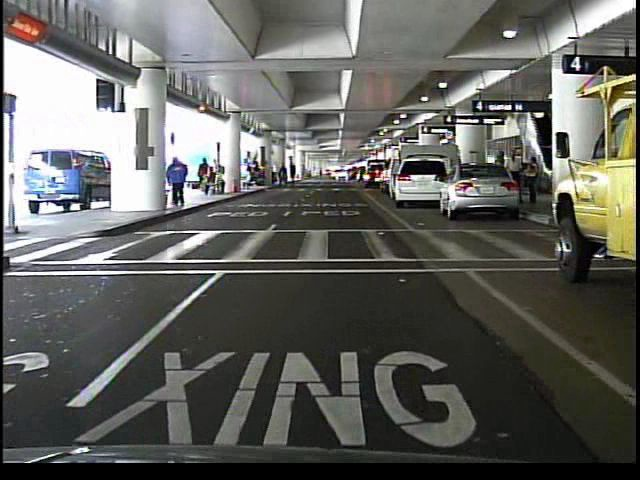person: (165, 153, 192, 208)
